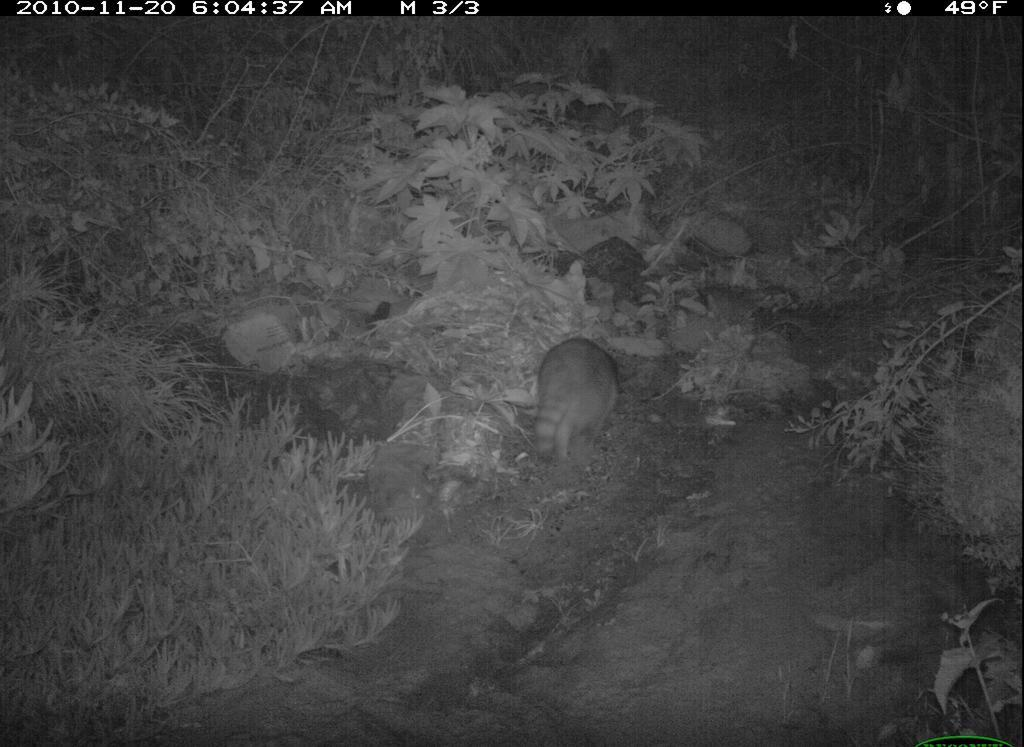raccoon: (524, 322, 641, 475)
